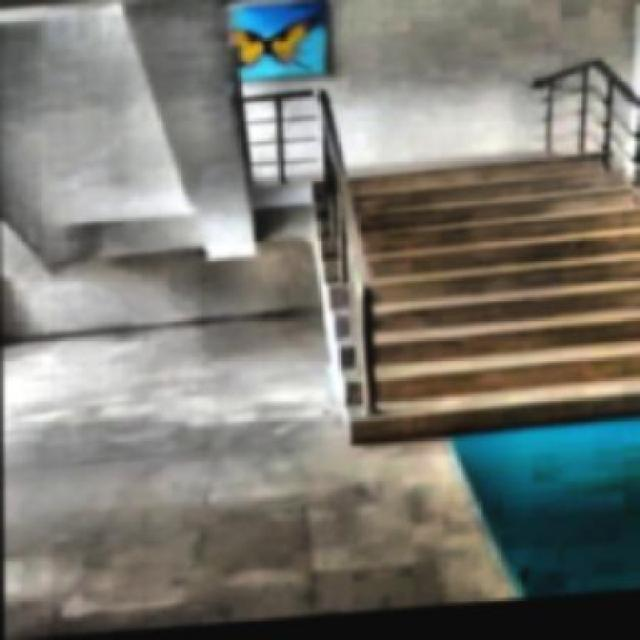stair: (280, 142, 638, 470)
